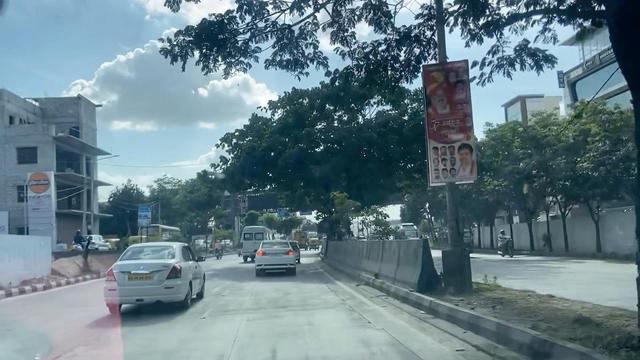LMV: (110, 249, 193, 309), (254, 243, 296, 271)
